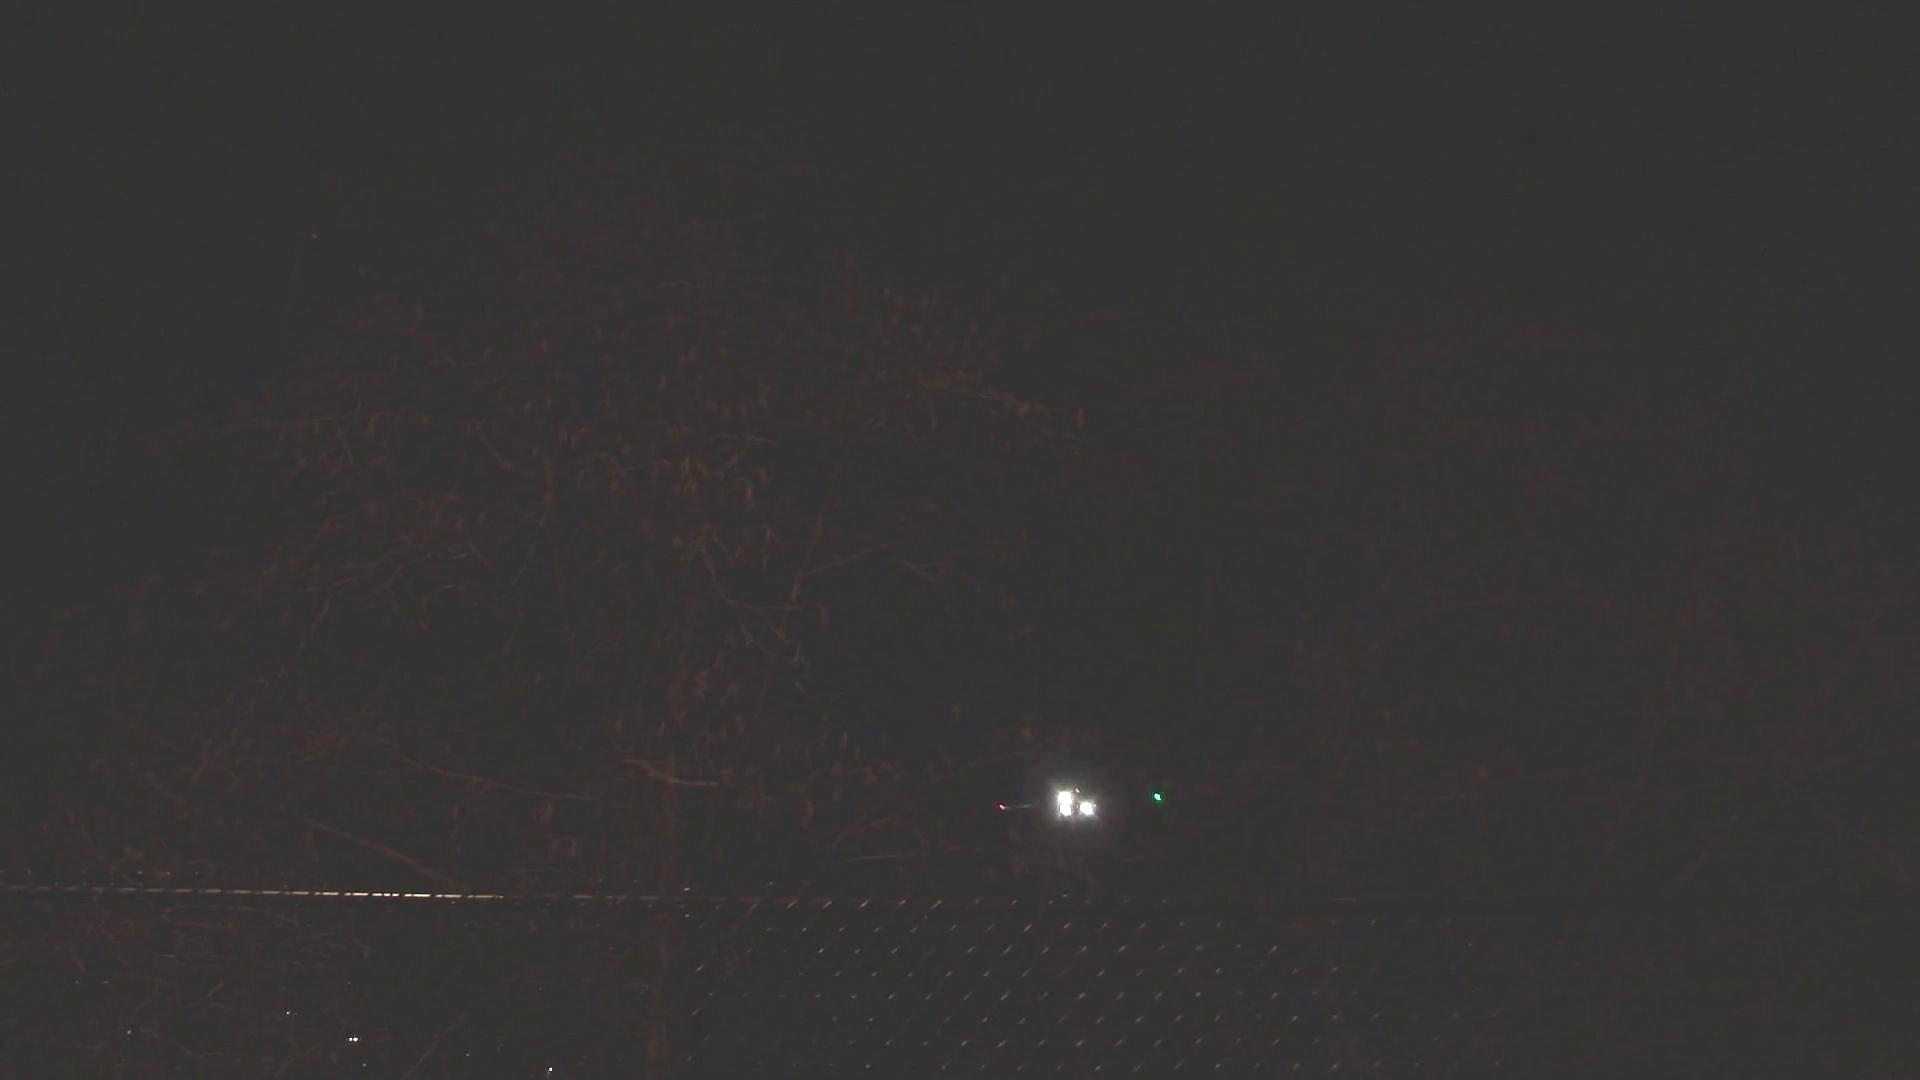Plane: (960, 771, 1170, 833)
